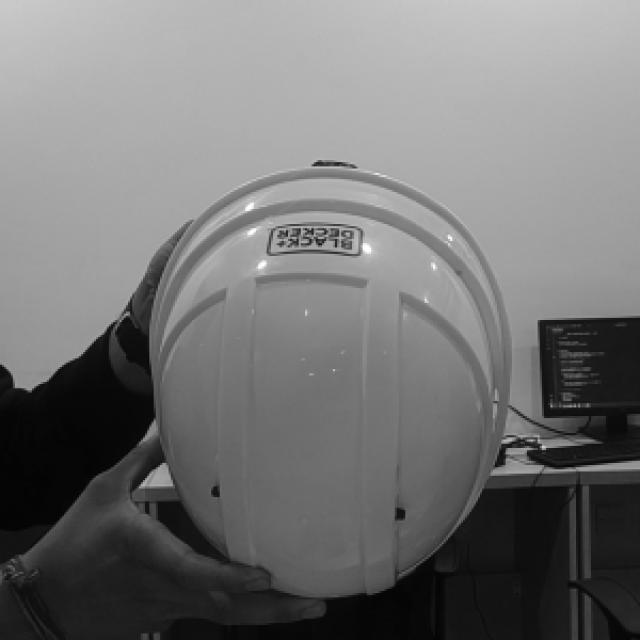safety_helmet: (149, 162, 514, 597)
